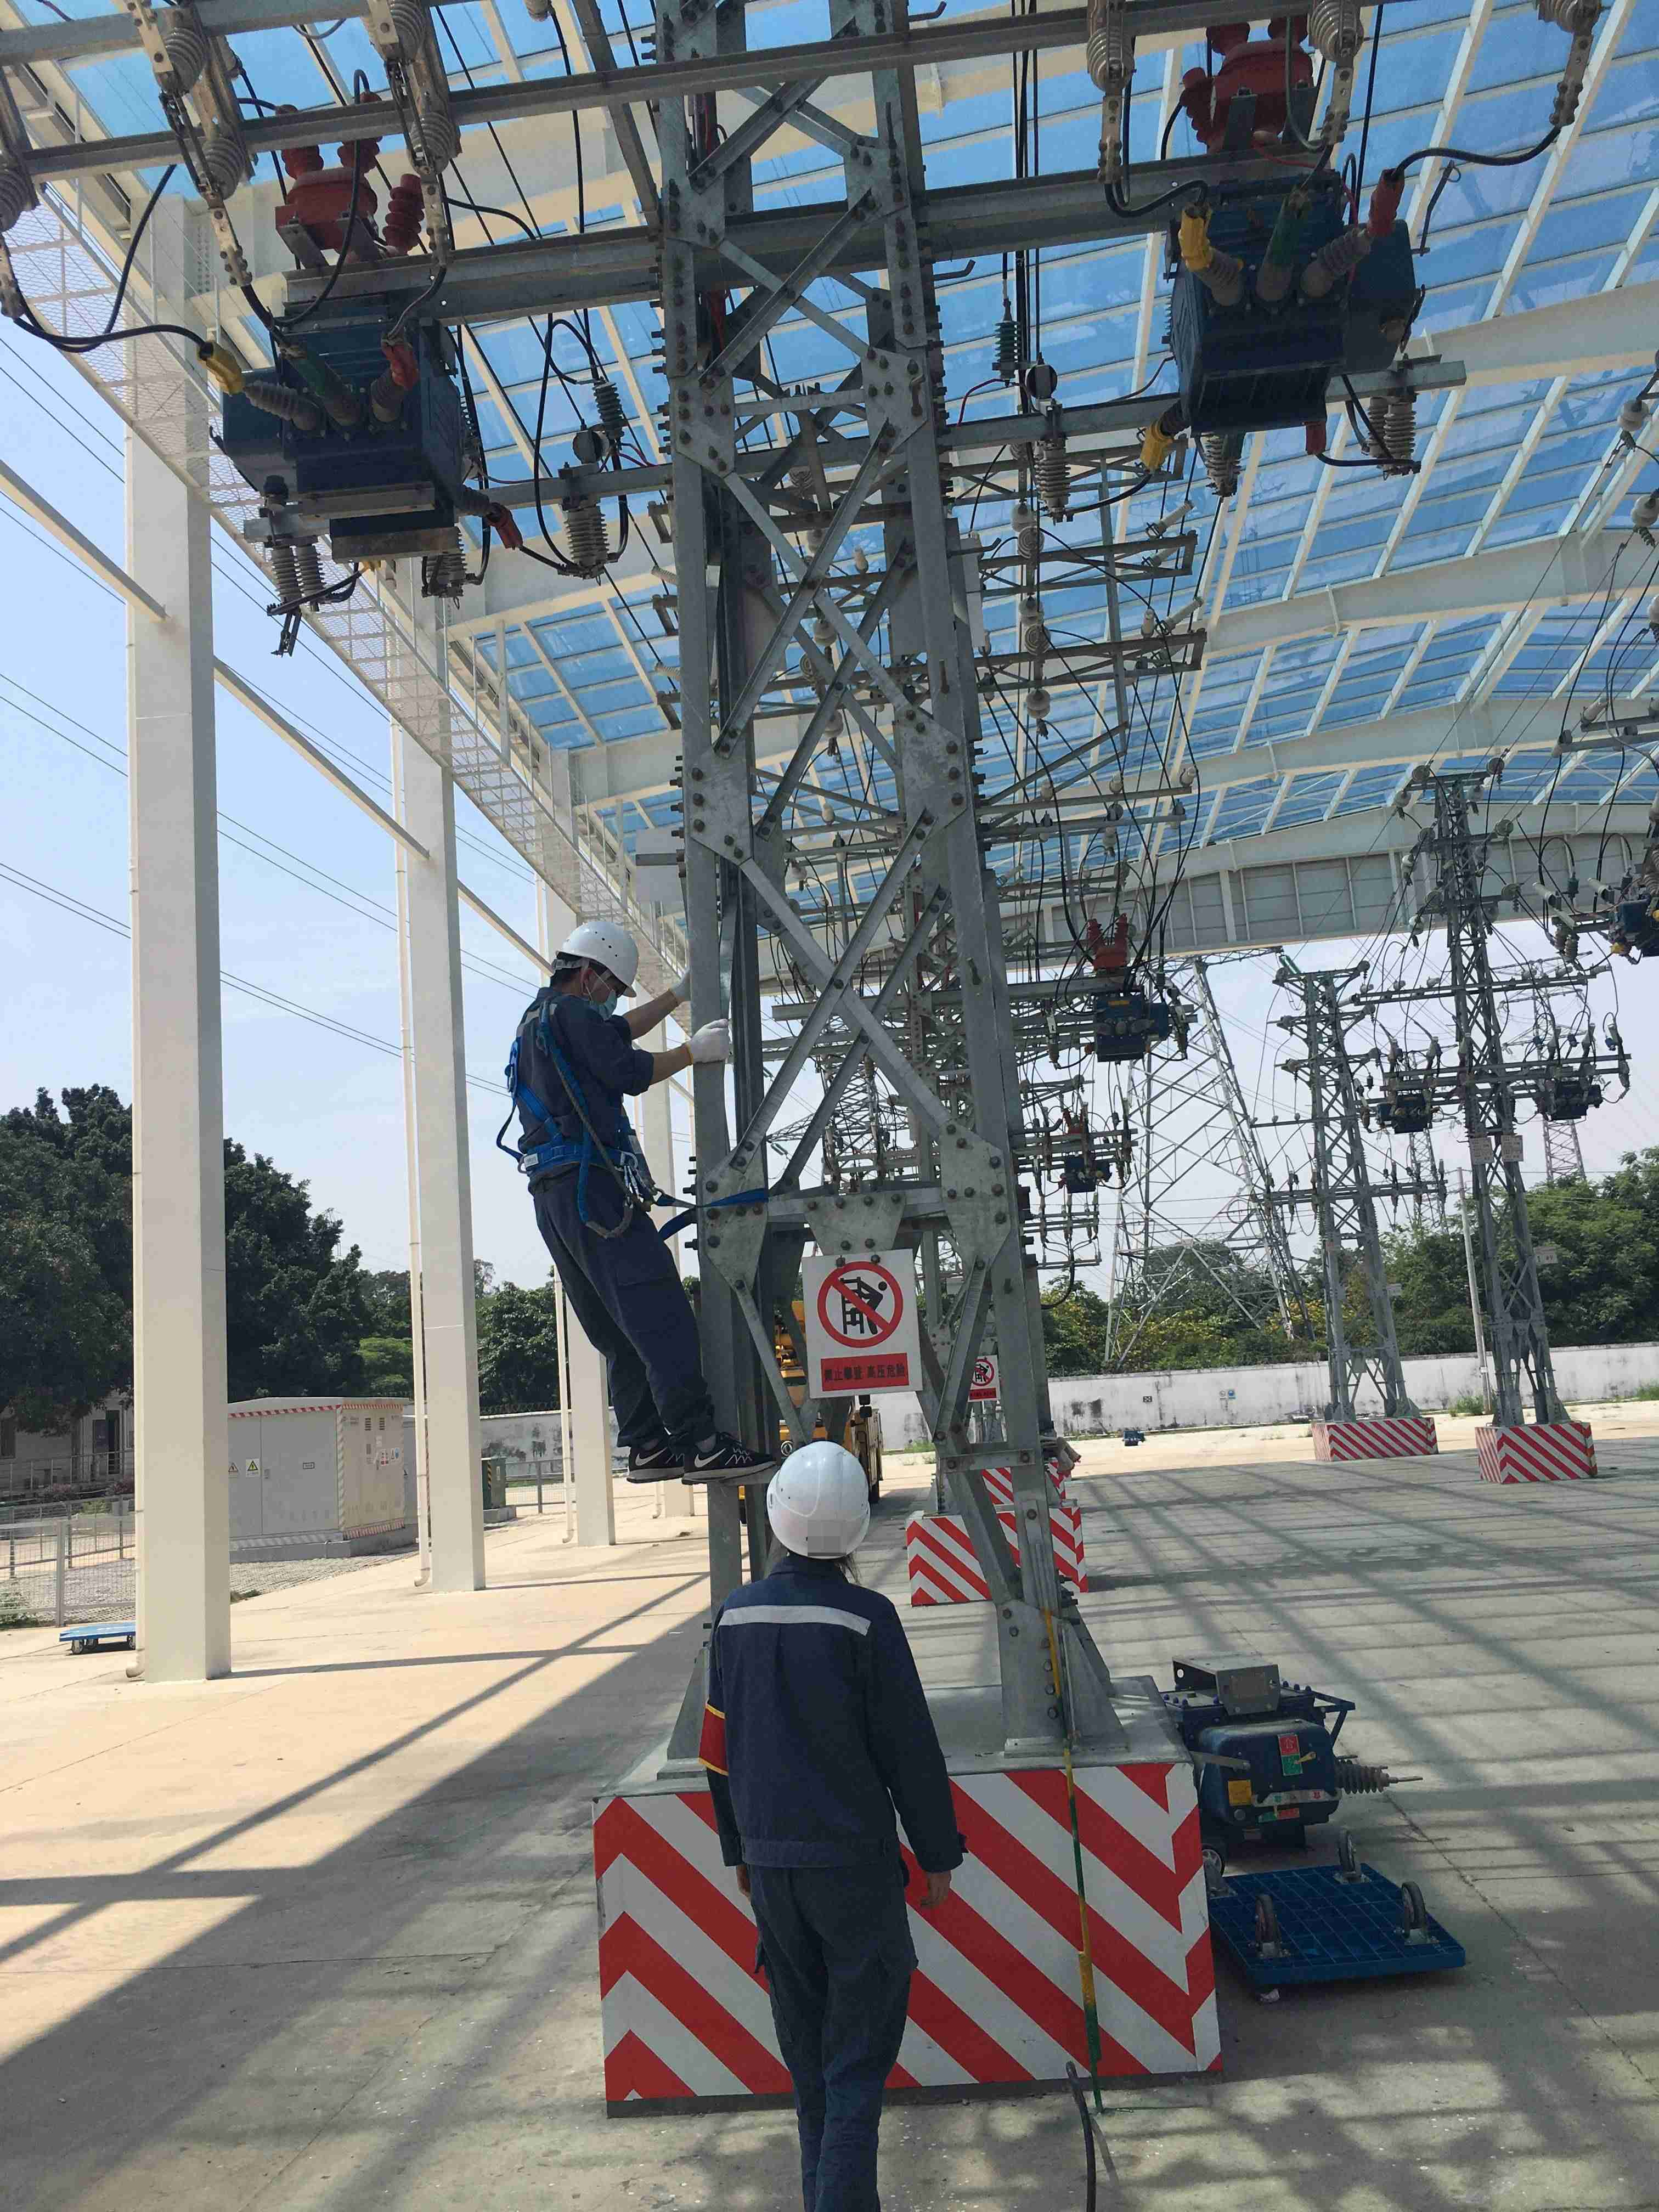downsuit: (521, 1169, 732, 1449), (744, 1893, 924, 2212)
upsuit: (701, 1568, 965, 1878), (493, 984, 655, 1153)
wrongtop: (622, 986, 683, 1043), (638, 1036, 695, 1094)
